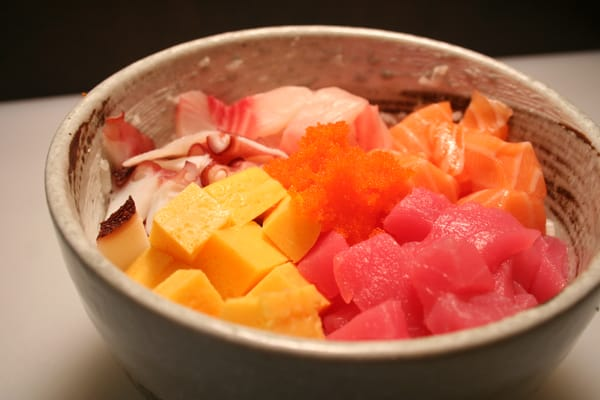sushi: (42, 32, 592, 394)
